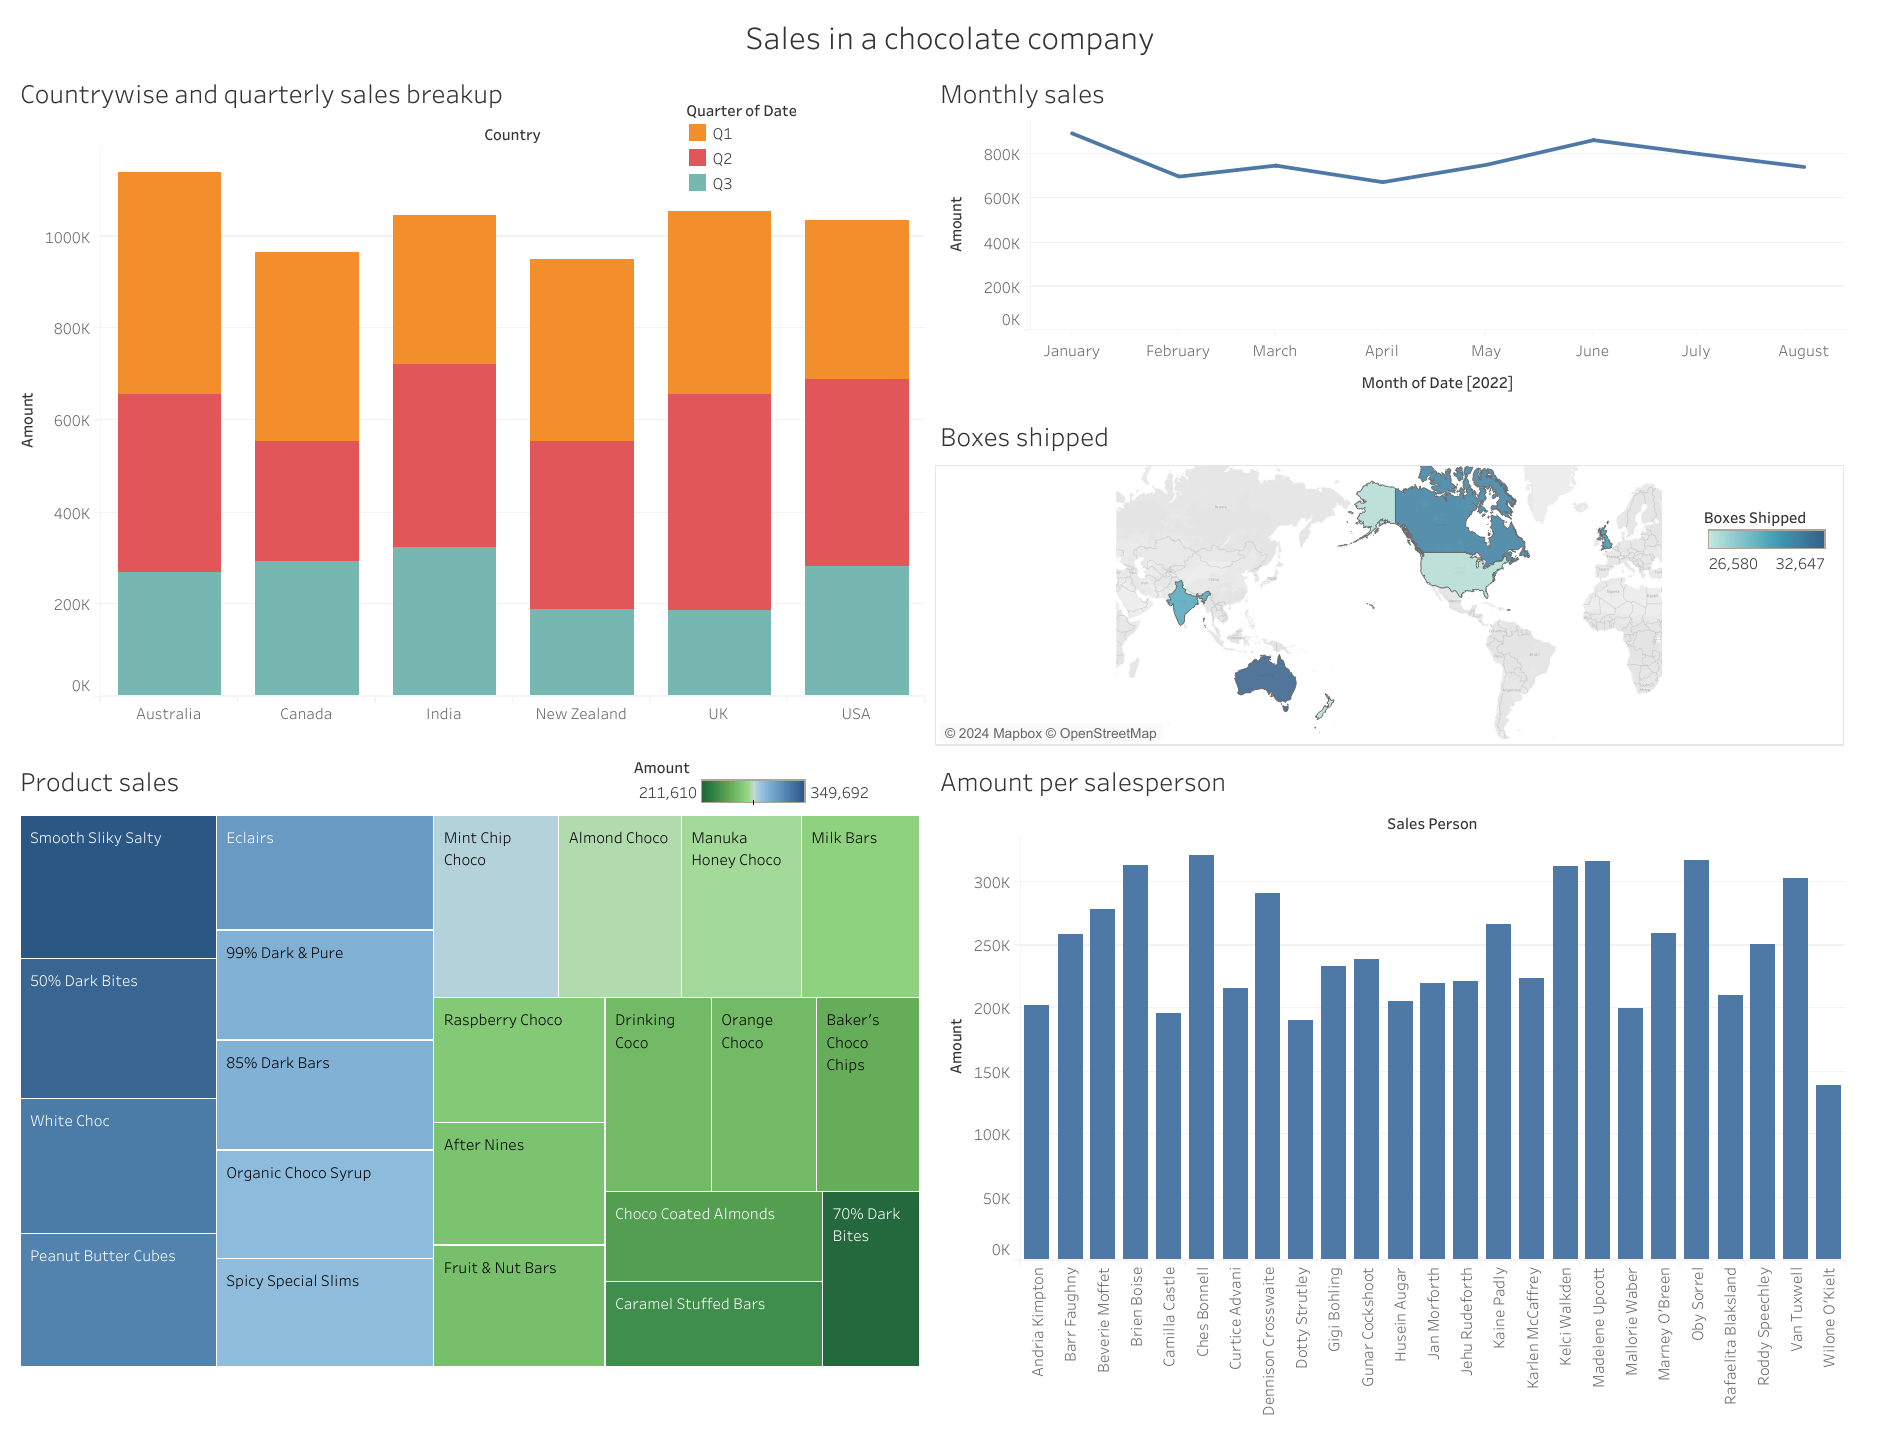

Layout of this report page (visuals, bound fields, positions):
{"tool":"tableau","page":{"name":"Chocolate Sales","canvas":[650,860],"ordinal":0},"visuals":[{"type":"worksheet","title":"Quarterly sales breakup","mark":"Automatic","rows":["Amount"],"cols":["Country"],"box":[8,8,237,211]},{"type":"worksheet","title":"Product Sales","mark":"Automatic","box":[245,8,237,422]},{"type":"legend","title":"Quarterly sales breakup","param":"[federated.1g7pzrn1go9nhs18dasw41mh2djv].[qr:Date:ok]","box":[482,8,160,93]},{"type":"legend","title":"Product Sales","param":"[federated.1g7pzrn1go9nhs18dasw41mh2djv].[__tableau_internal_object_id__].[cnt:d","box":[482,101,160,73]},{"type":"legend","title":"Boxes Shipped","param":"[federated.1g7pzrn1go9nhs18dasw41mh2djv].[sum:Boxes Shipped:qk]","box":[482,174,160,73]},{"type":"worksheet","title":"Boxes Shipped","mark":"Automatic","box":[8,219,237,211]},{"type":"worksheet","title":"Monthly Sales","mark":"Automatic","rows":["Amount"],"cols":["Date"],"box":[8,430,237,422]},{"type":"worksheet","title":"Amount per Salesperson","mark":"Automatic","rows":["Amount"],"cols":["Sales Person"],"box":[245,430,237,422]}]}

Visuals, with their boxes on the page's 650x860 design canvas (x1, y1, x2, y2). These are canvas units, not pixel positions in the 1899x1449 screenshot, which may show the page scaled, cropped or inside an application window:
"Quarterly sales breakup" worksheet: BBox(8, 8, 245, 219)
"Product Sales" worksheet: BBox(245, 8, 482, 430)
"Quarterly sales breakup" legend: BBox(482, 8, 642, 101)
"Product Sales" legend: BBox(482, 101, 642, 174)
"Boxes Shipped" legend: BBox(482, 174, 642, 247)
"Boxes Shipped" worksheet: BBox(8, 219, 245, 430)
"Monthly Sales" worksheet: BBox(8, 430, 245, 852)
"Amount per Salesperson" worksheet: BBox(245, 430, 482, 852)
